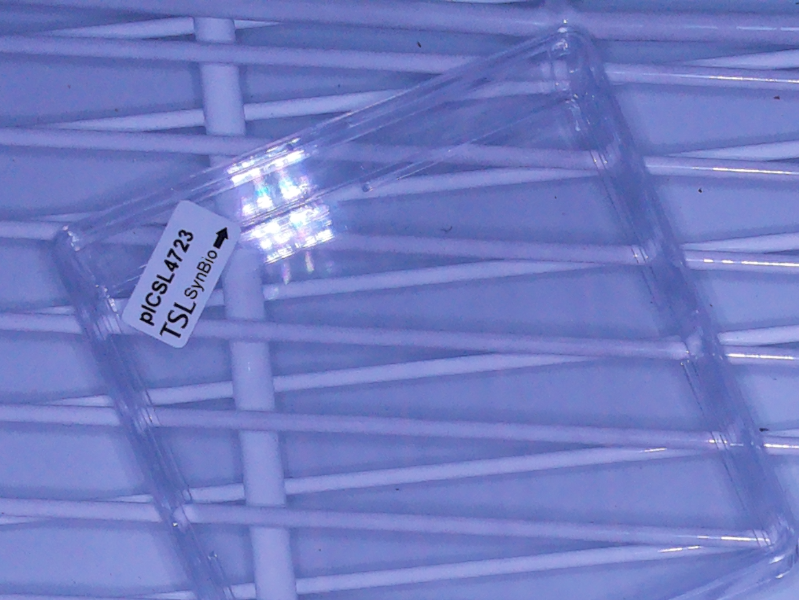plate: (46, 23, 799, 600)
